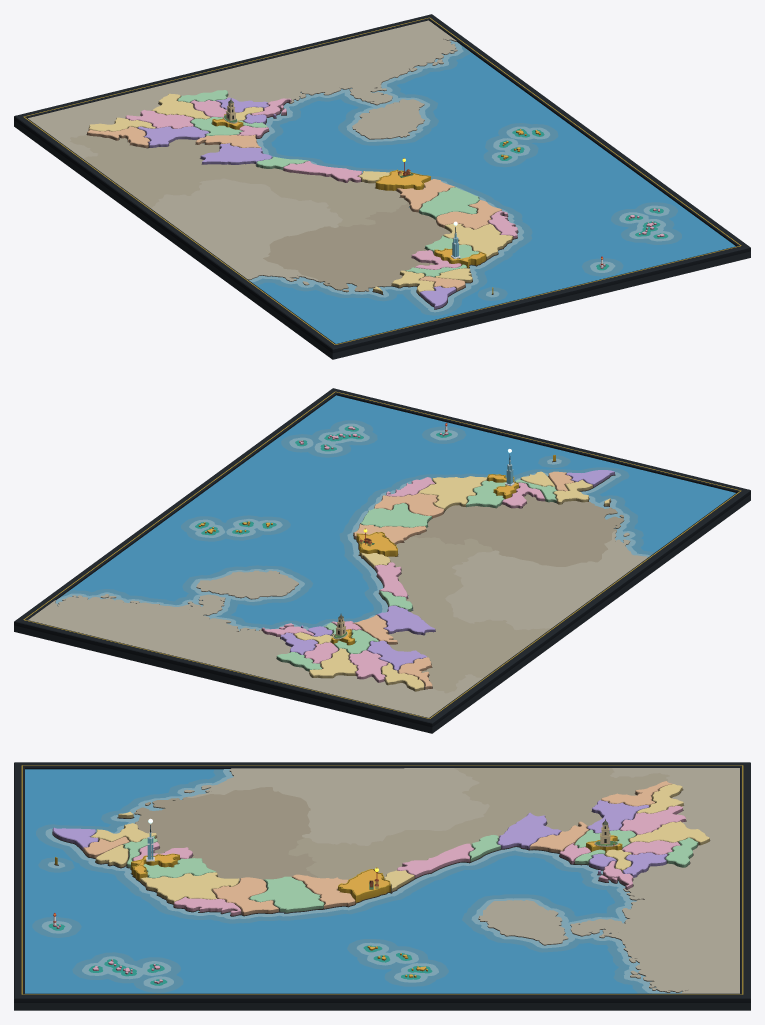
Rendered from vietnam_world_atlas.glb.
3 renders of one model, top to bottom at view 1: azimuth 30°, elevation 25°; view 2: azimuth 150°, elevation 25°; view 3: azimuth 270°, elevation 25°, orthographic. The views are drawn at different scales.
Parts seen in each view (by area): view 1: Atlas_Board, Sea_Water, Provinces_Locked, Gold_Trim, Province_da_nang; view 2: Atlas_Board, Sea_Water, Provinces_Locked, Gold_Trim, Province_da_nang; view 3: Atlas_Board, Sea_Water, Provinces_Locked, Gold_Trim, Province_da_nang, Landmarks.
Boxes of the visible parts, box(x1,y1,x2,y2) form: Atlas_Board: box(14, 14, 750, 359); Sea_Water: box(256, 52, 735, 343); Provinces_Locked: box(87, 90, 664, 308); Gold_Trim: box(23, 17, 741, 344); Province_da_nang: box(377, 129, 540, 185); Atlas_Board: box(14, 388, 750, 733); Sea_Water: box(70, 395, 735, 624); Provinces_Locked: box(261, 426, 614, 691); Gold_Trim: box(23, 391, 741, 718); Province_da_nang: box(198, 521, 396, 550); Atlas_Board: box(14, 762, 750, 1010); Sea_Water: box(25, 769, 637, 993); Provinces_Locked: box(52, 781, 709, 983); Gold_Trim: box(21, 765, 743, 994); Province_da_nang: box(339, 869, 427, 977); Landmarks: box(53, 819, 618, 924).
Bounding box in the file's own units: 20.3 × 2.34 × 26.8.
